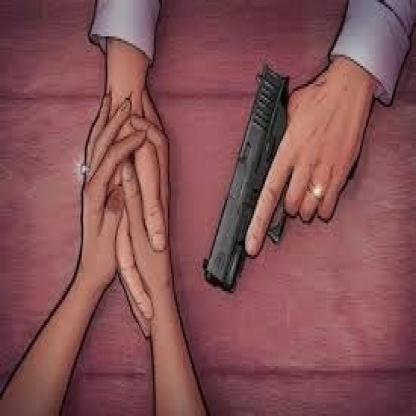Pistol: (201, 64, 298, 292)
